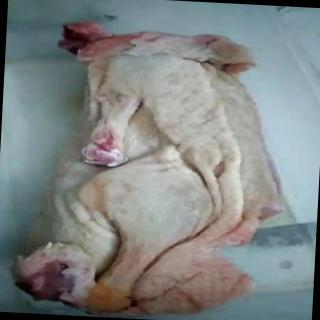Ayam: (8, 16, 294, 320)
